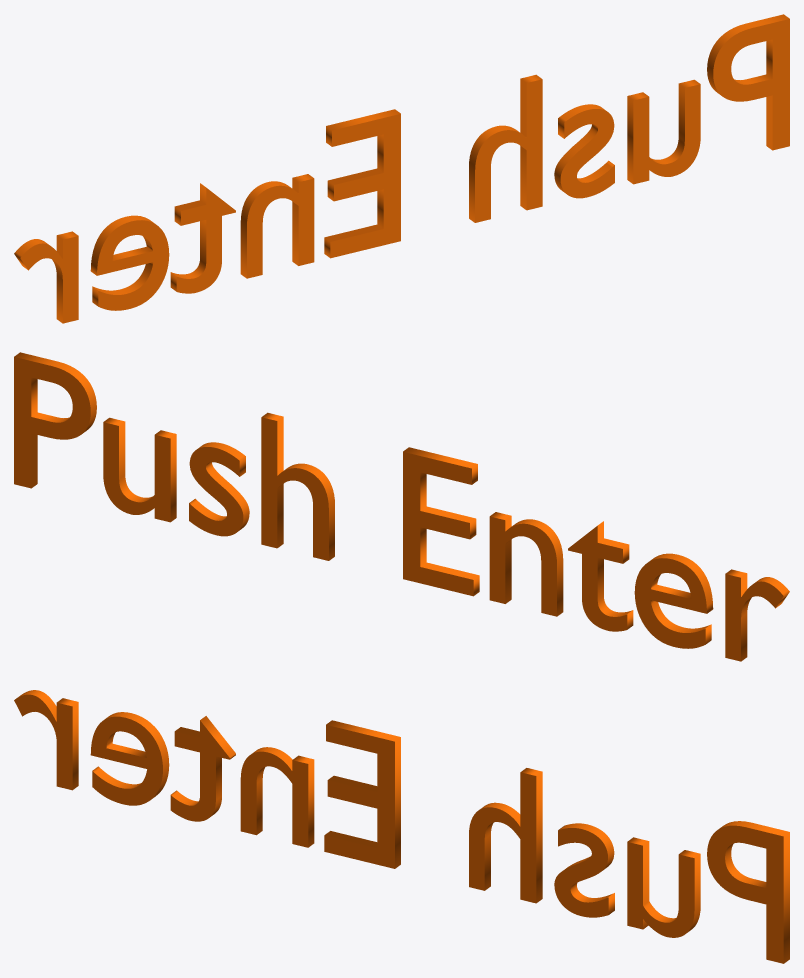
The model's file is push_Enter.obj.
3 views of the same model, one above another, from view 1: azimuth 30°, elevation 25°; view 2: azimuth 150°, elevation 25°; view 3: azimuth 330°, elevation 25° (orthographic).
Parts seen in each view (by area): view 1: テキスト.001; view 2: テキスト.001; view 3: テキスト.001.
Boxes of the visible parts, x1,y1,x2,y2 form: テキスト.001: (14,14,789,323); テキスト.001: (14,352,789,661); テキスト.001: (14,690,789,963).
Bounding box in the file's own units: 8.62 × 1.38 × 0.12.
